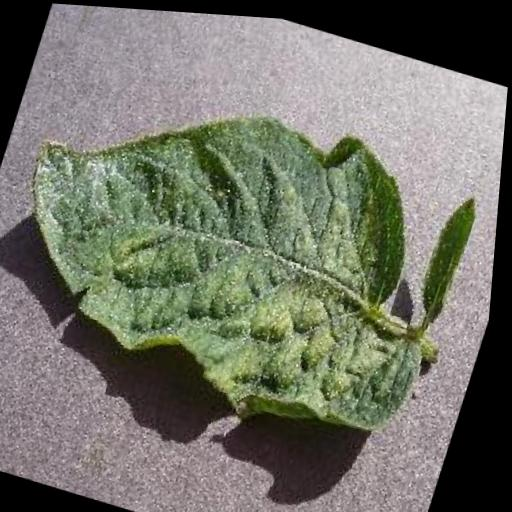Spider Mites: (0, 44, 498, 466)
